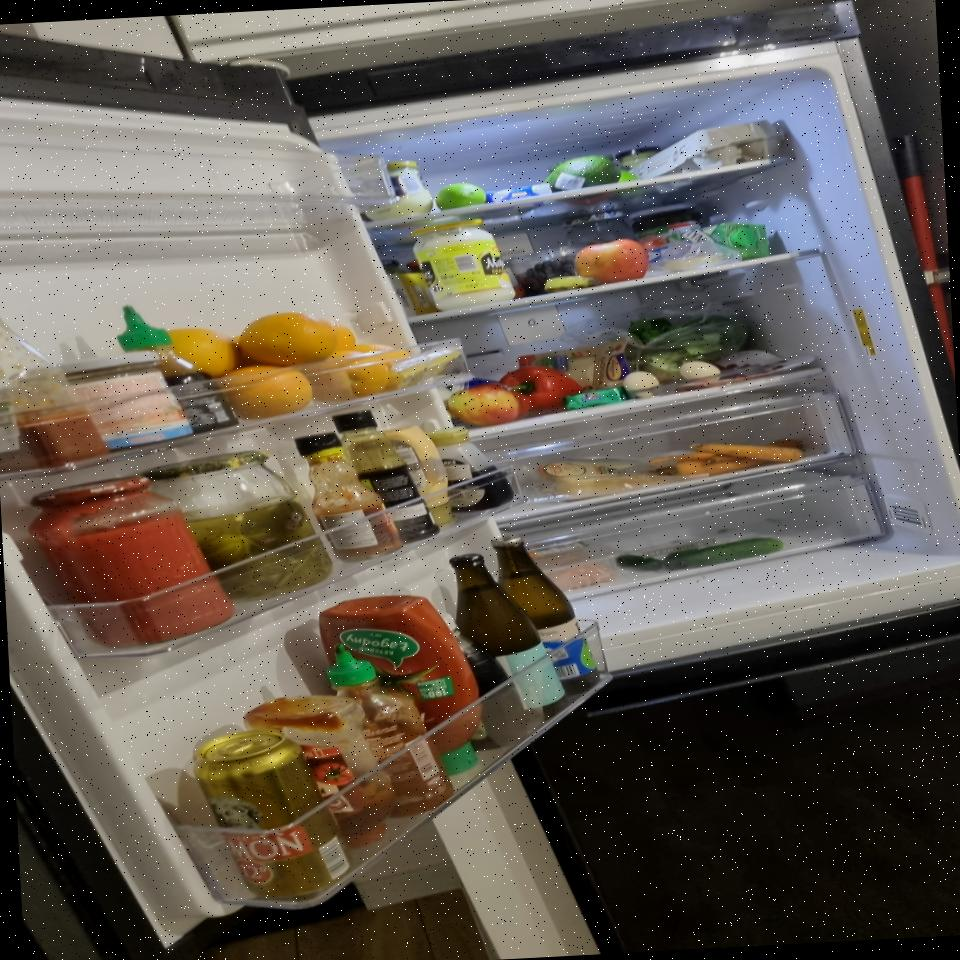Aguacate: (541, 154, 622, 201)
Carne pollo: (517, 534, 623, 594)
Huevos: (626, 118, 789, 195), (678, 360, 721, 386), (622, 371, 660, 399)
Lechuga/Endivia: (623, 313, 750, 383)
Mantequilla: (485, 182, 554, 208), (564, 386, 628, 410)
Manzana: (446, 382, 523, 430), (574, 238, 650, 286)
Pepino: (662, 537, 785, 571), (616, 552, 664, 573)
Plátano: (544, 274, 600, 294)
Queso: (516, 338, 644, 394), (552, 456, 672, 500), (388, 348, 462, 390), (664, 254, 724, 272)
Zanahoria: (647, 437, 805, 478)
